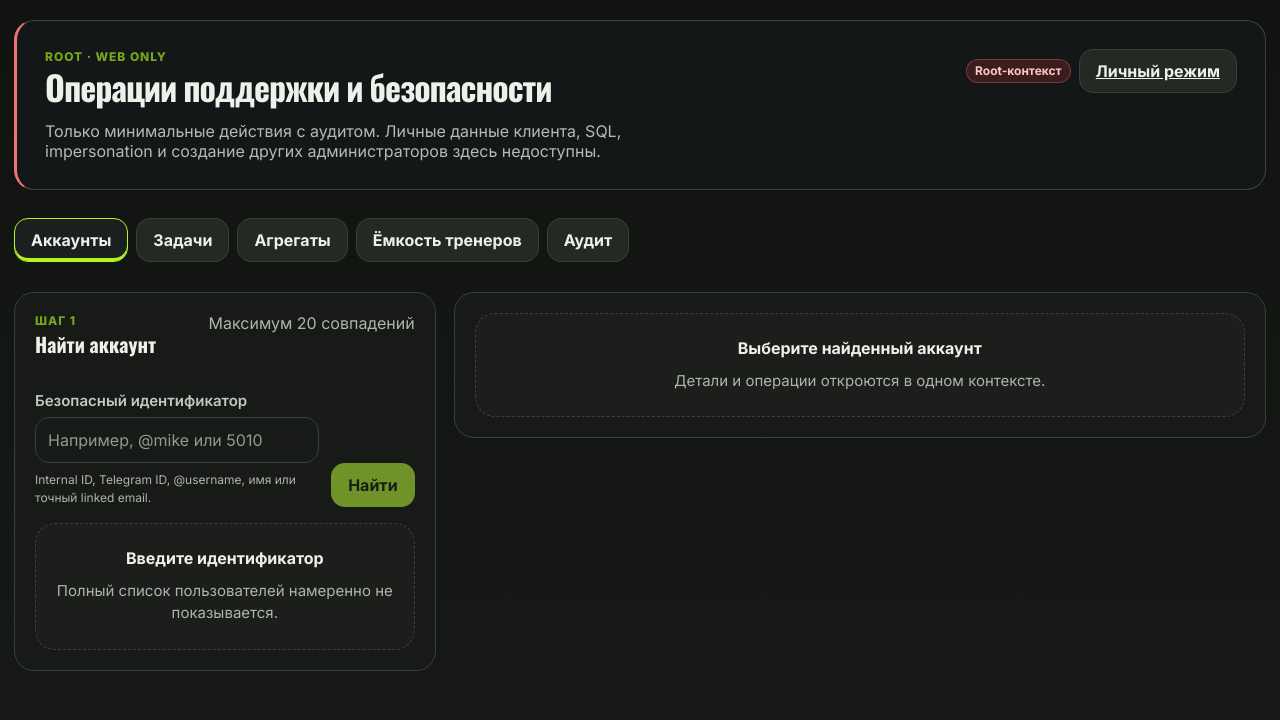
Test case: AdminPage › показывает controlled search error и восстанавливается через retry
Type "@long_support_identifier" into the search field labelled "Безопасный идентификатор" at coordinates (177, 440), box left=35, top=417, right=319, bottom=463
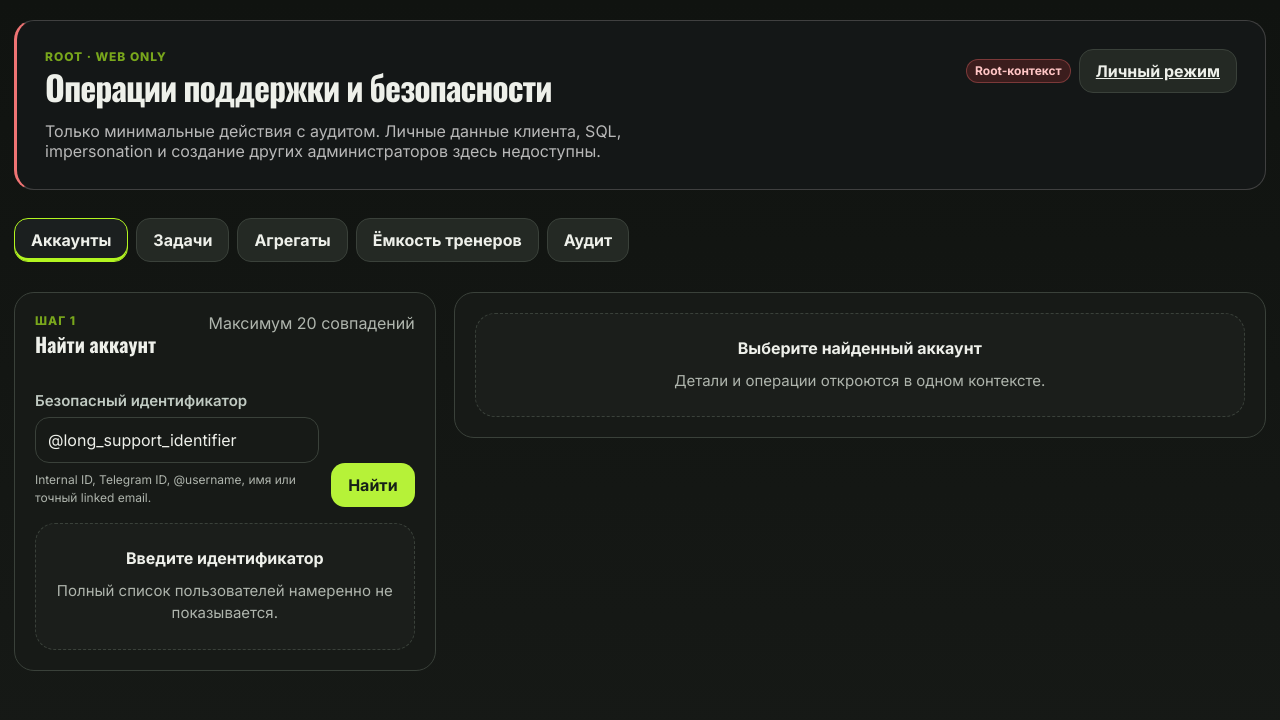
Click the button "Найти" at coordinates (373, 485), box left=331, top=463, right=415, bottom=507
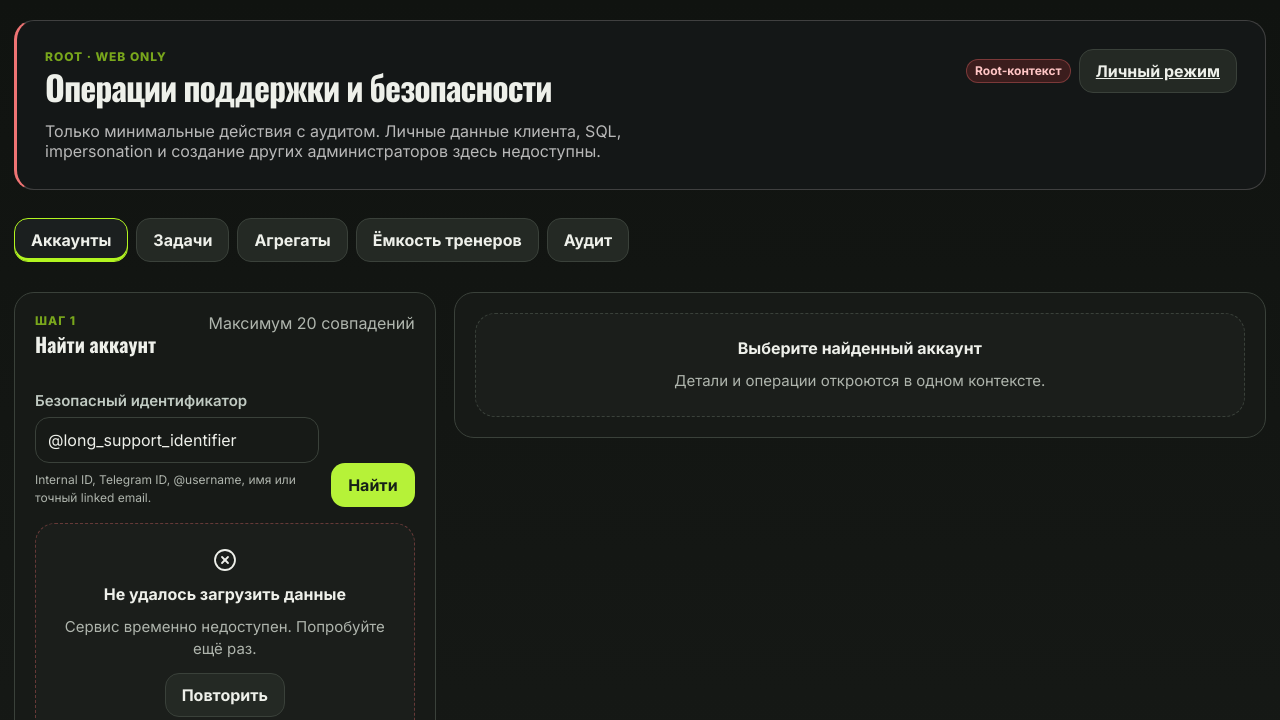
expect the text "Сервис временно недоступен. Попробуйте ещё раз." is shown: met, box left=52, top=616, right=398, bottom=661
Click the button "Повторить" at coordinates (225, 695), box left=165, top=673, right=285, bottom=717
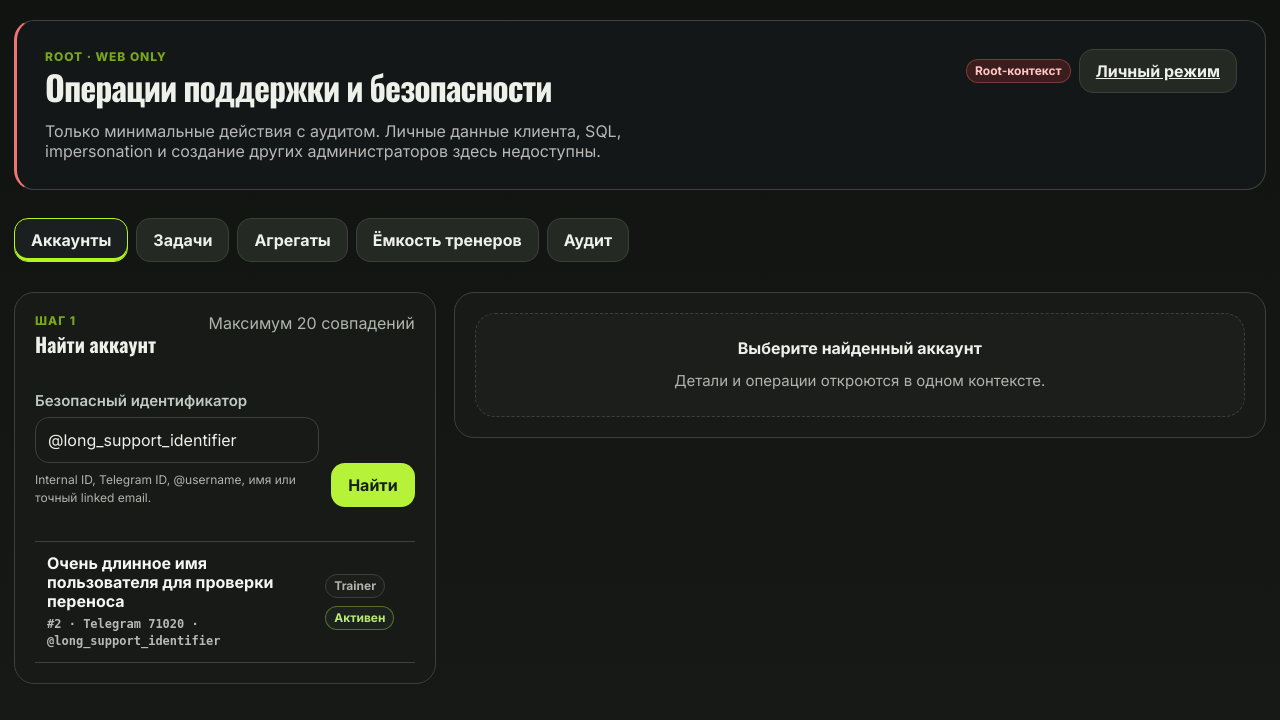
expect the button "Очень длинное имя пользователя для проверки переноса" is shown: met, box left=35, top=542, right=415, bottom=662
